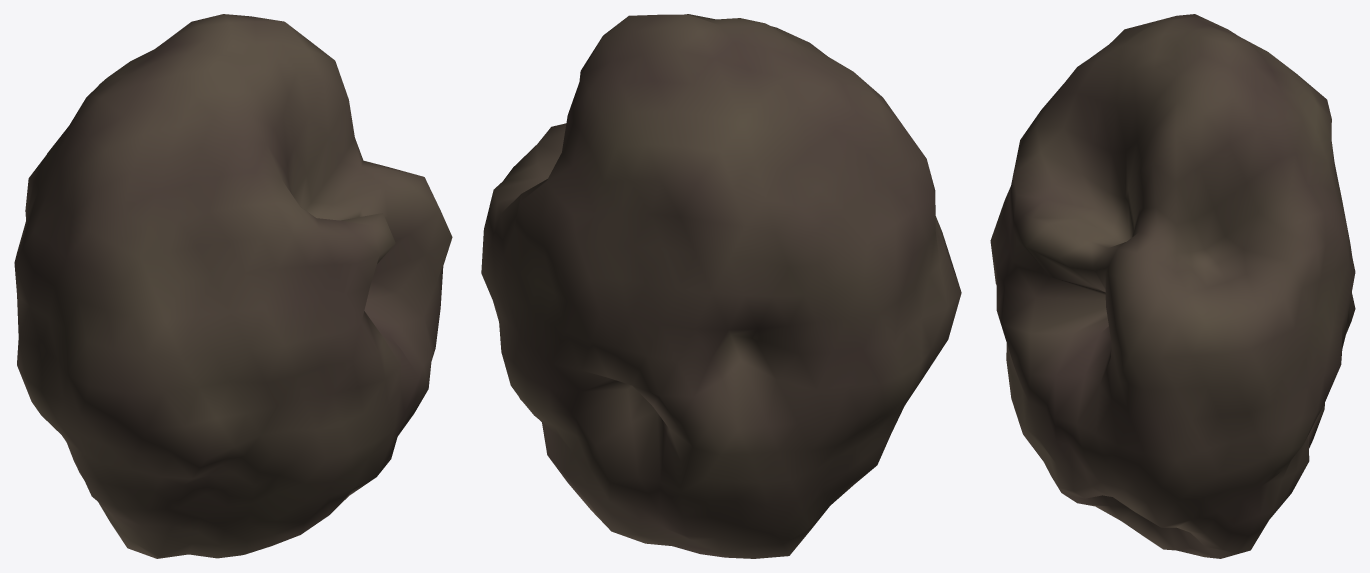
The model's file is asteroid_med_24.glb.
The picture shows the model from 3 angles, left to right: view 1: azimuth 30°, elevation 25°; view 2: azimuth 150°, elevation 25°; view 3: azimuth 270°, elevation 25°; orthographic projection. The views are drawn at different scales.
Visible parts, largest first — view 1: asteroid_med_24; view 2: asteroid_med_24; view 3: asteroid_med_24.
Part boxes in pixels (<box>): asteroid_med_24: <box>14,14,452,558</box>; asteroid_med_24: <box>481,14,961,558</box>; asteroid_med_24: <box>990,14,1355,558</box>.
Size of the model in its own units: 1.8 by 2.22 by 1.45.
